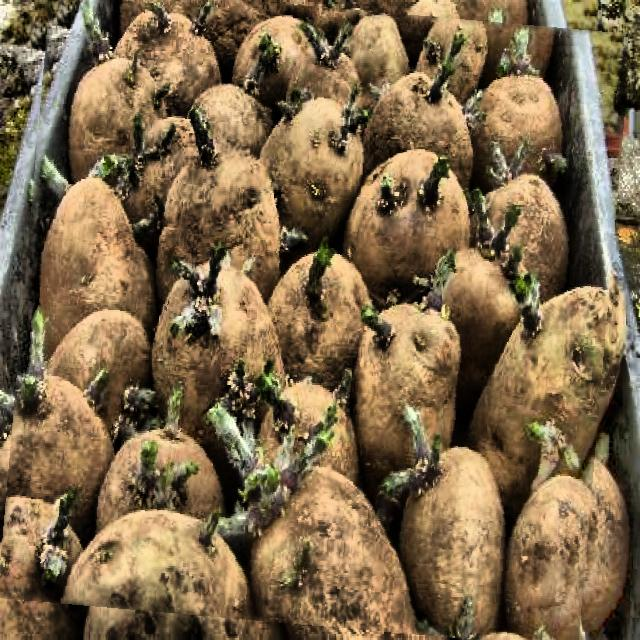potato: (9, 0, 617, 636)
